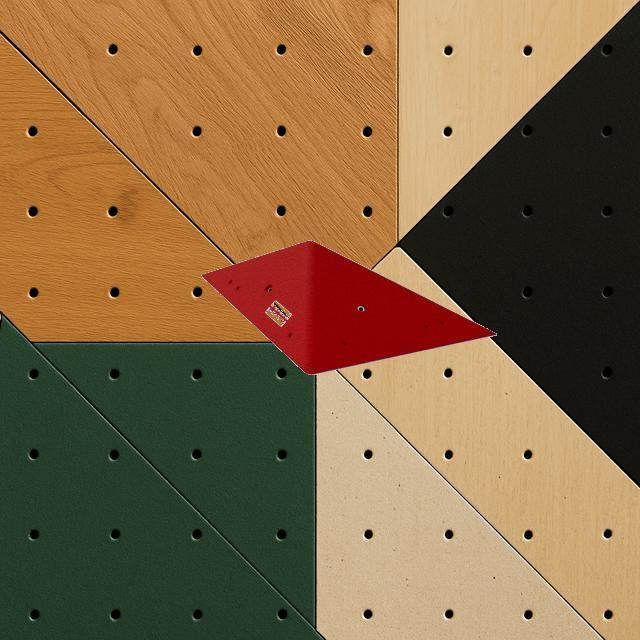Volume: (200, 240, 496, 374)
